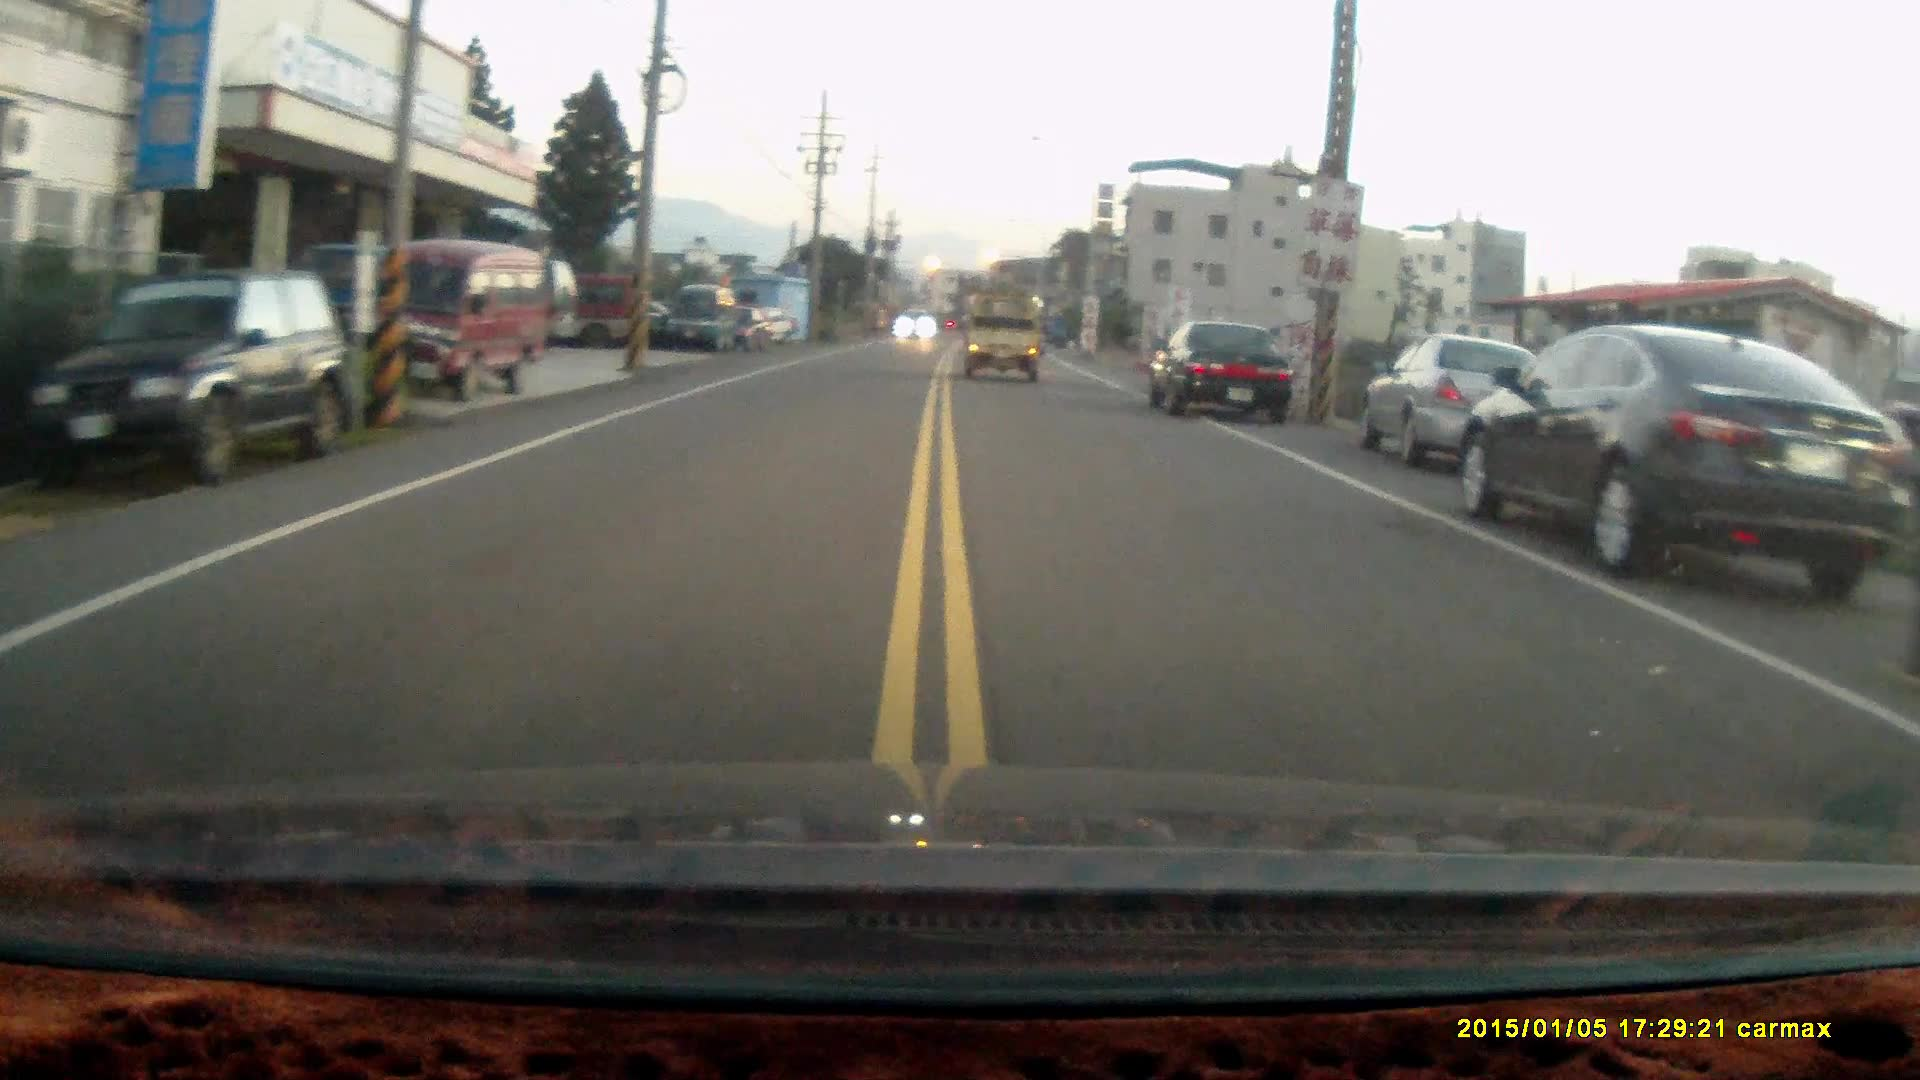vehicle: (1455, 326, 1903, 599), (33, 276, 351, 481), (328, 240, 553, 397), (1357, 328, 1552, 471), (1142, 316, 1298, 425), (967, 293, 1048, 382), (667, 284, 740, 349)
